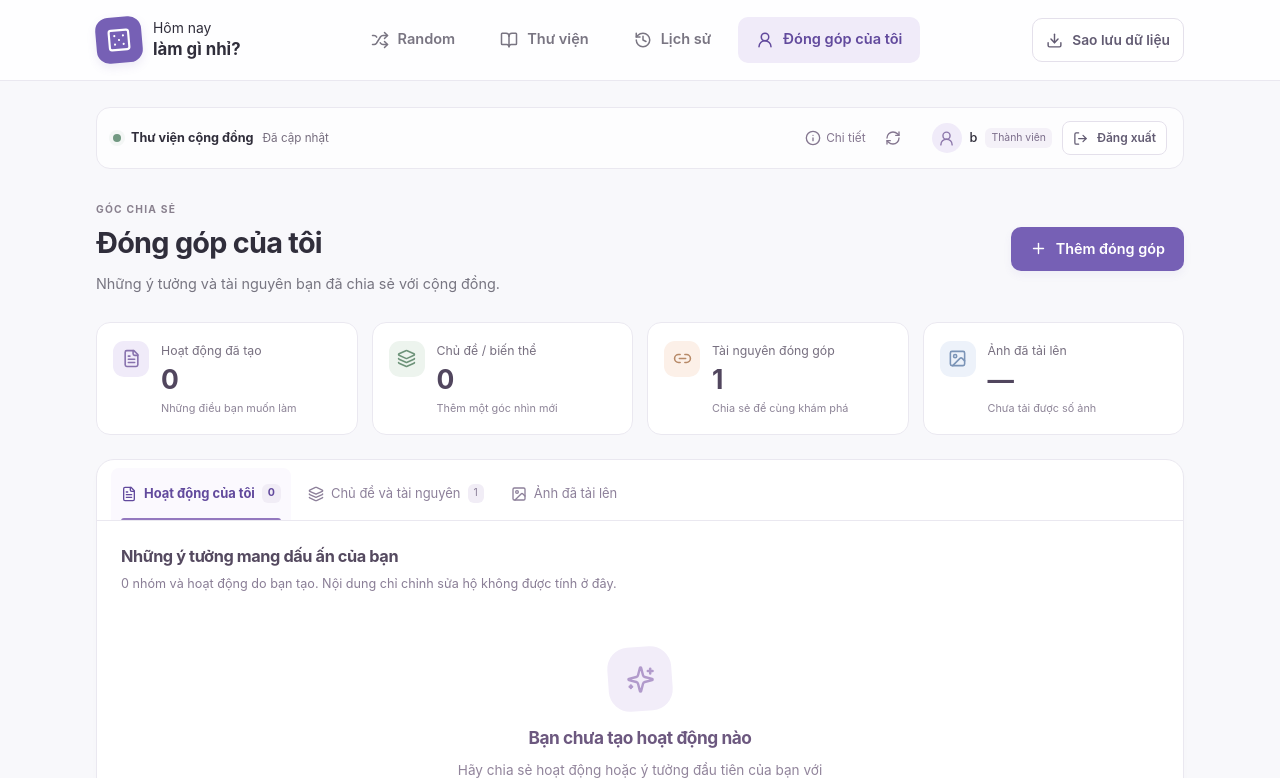
Test: UI cộng đồng › đóng góp của tôi gồm tài nguyên trên hoạt động người khác
Expected: the button named "Tải lại thư viện" is enabled, [878,120,908,156]
Click the tab "Chủ đề và tài nguyên 1": (396, 494) [298,468,494,520]
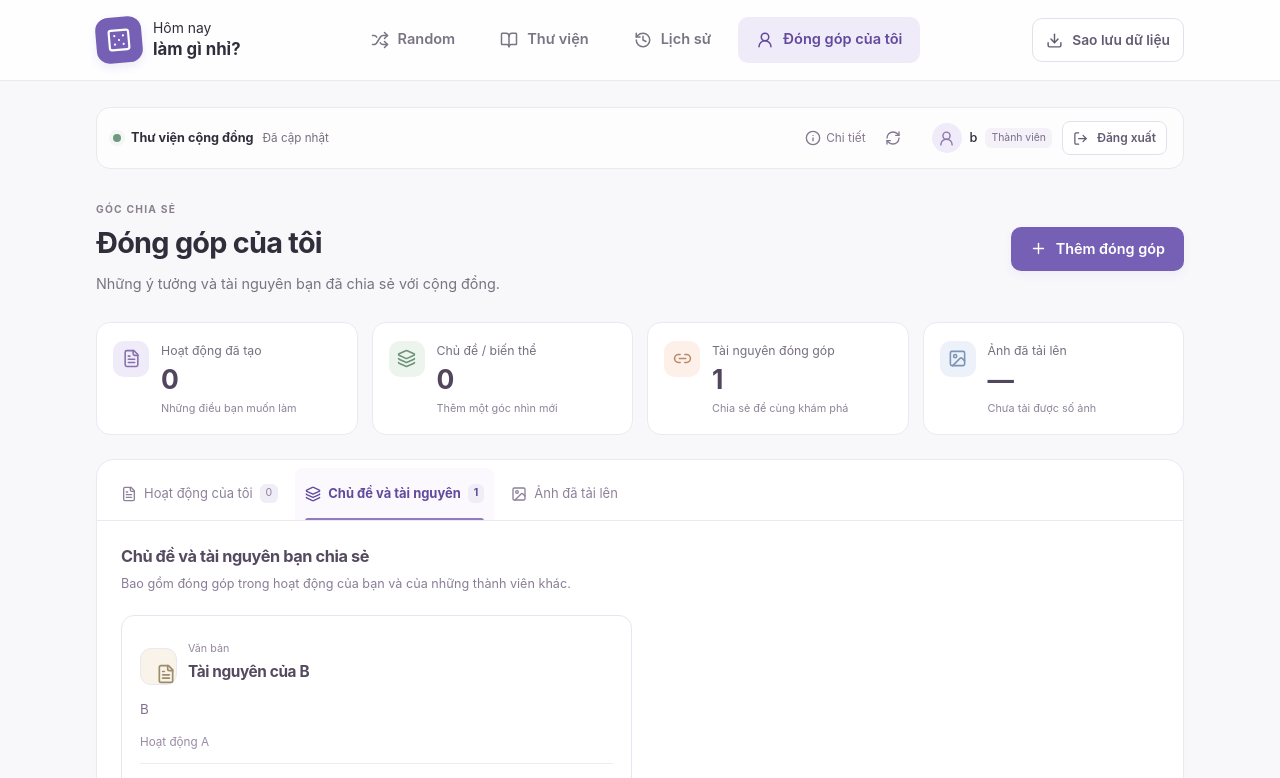
Result: the heading "Tài nguyên của B" is shown at [188,662,309,681]
